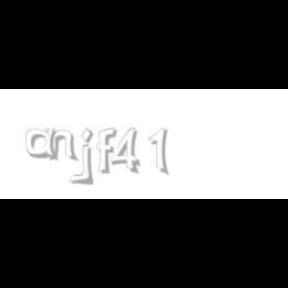1: (147, 128, 169, 176)
4: (110, 128, 140, 174)
a: (26, 128, 62, 160)
f: (97, 128, 121, 174)
j: (79, 128, 108, 186)
n: (45, 128, 79, 162)
